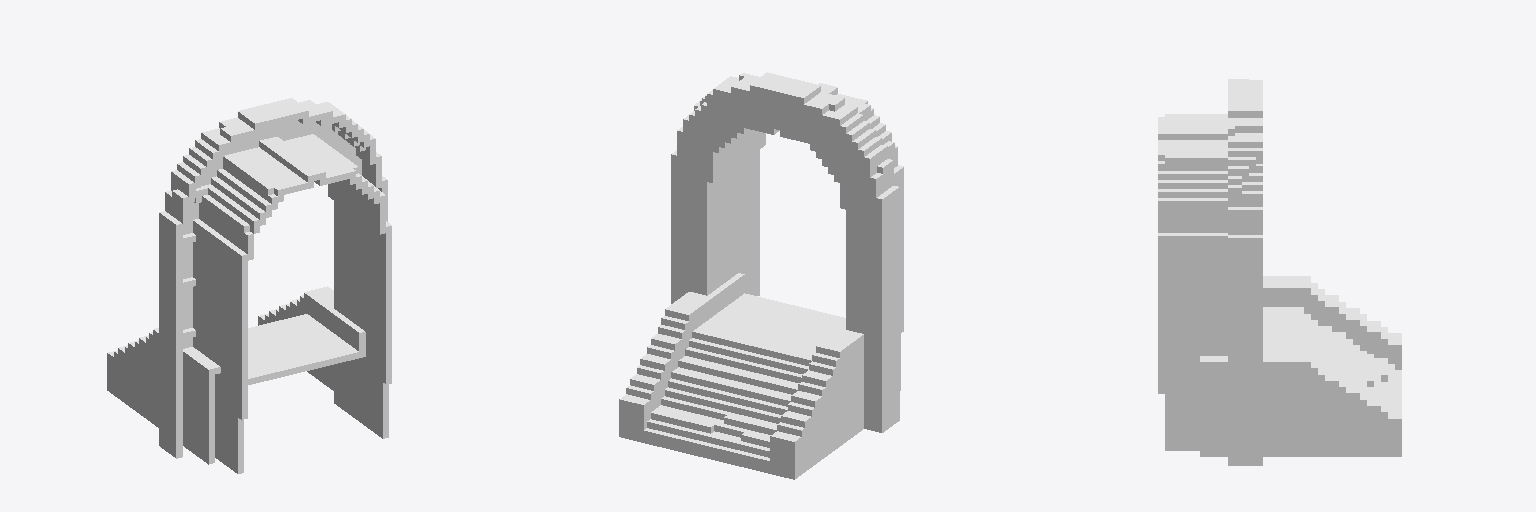
Rendered from Castle_Fort_Entrance.obj.
3 views of the same model, side by side, from view 1: azimuth 30°, elevation 25°; view 2: azimuth 150°, elevation 25°; view 3: azimuth 270°, elevation 25° (orthographic).
Parts seen in each view (by area): view 1: object 1; view 2: object 1; view 3: object 1.
Part boxes in pixels (x1,y1,x2,y2): object 1: (107, 98, 391, 473); object 1: (619, 72, 903, 479); object 1: (1158, 79, 1401, 465).
Bounding box in the file's own units: 3.5 × 5 × 3.5.